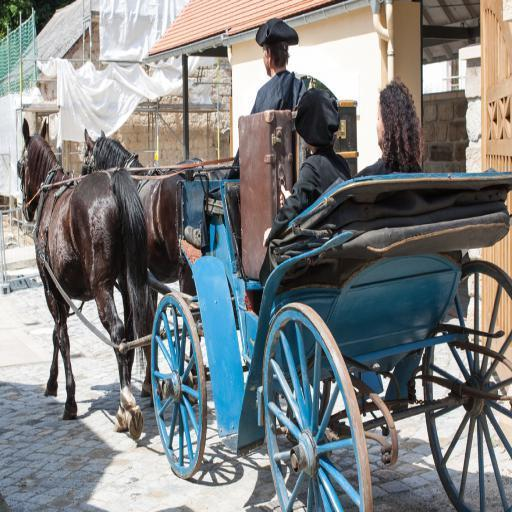horse: (17, 118, 150, 442), (82, 126, 230, 398)
